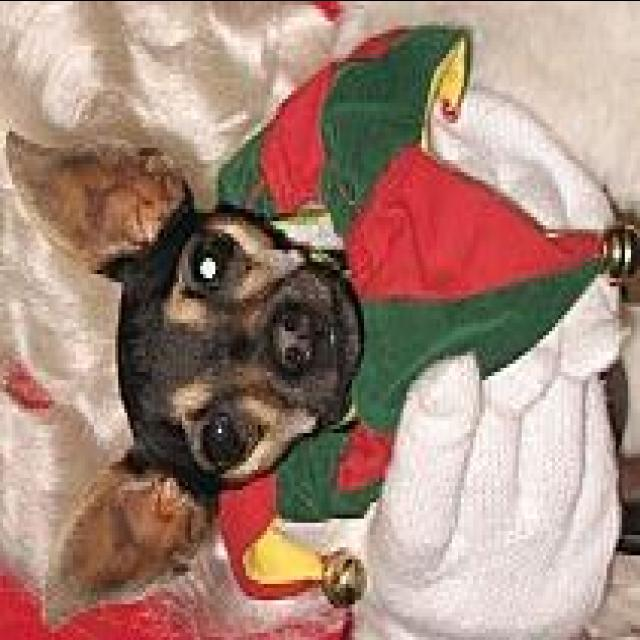chihuahua: (0, 107, 397, 616)
